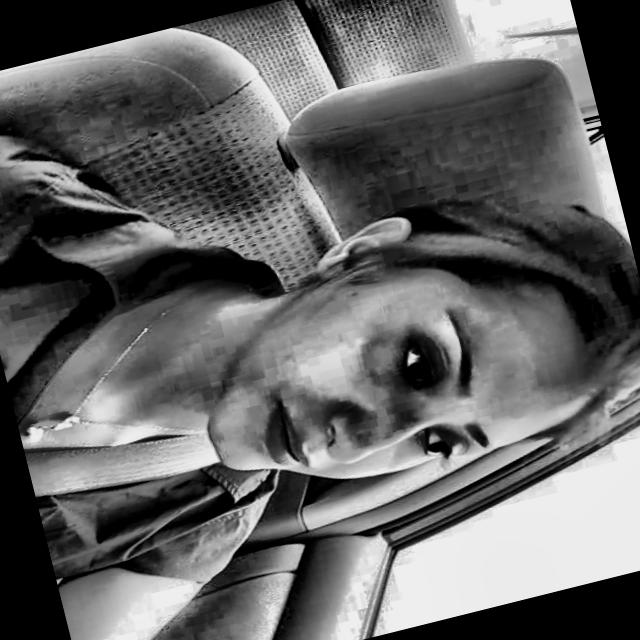closed_mouth: (228, 385, 318, 489)
open_eyes: (376, 314, 446, 395), (406, 416, 471, 471)
